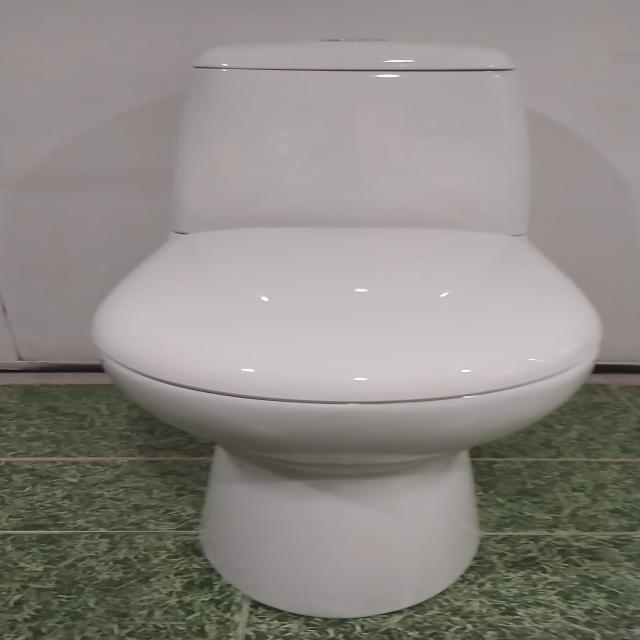toilet: (90, 39, 602, 619)
